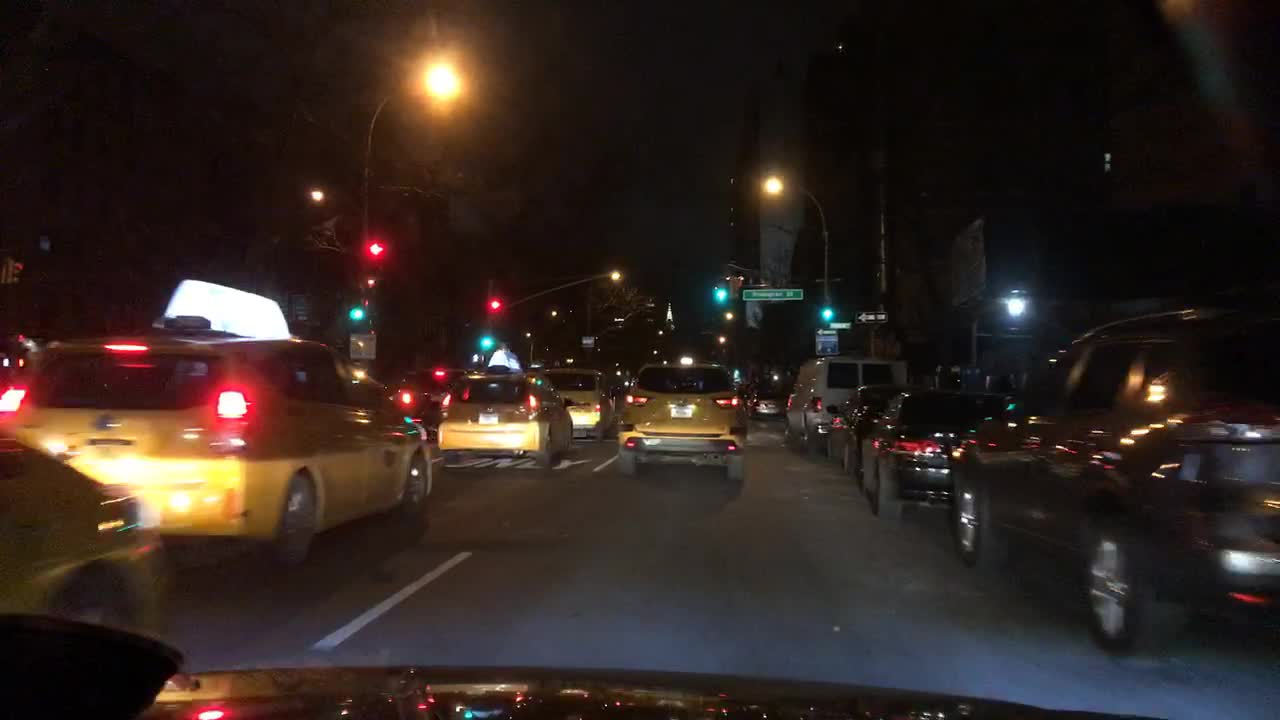car: (0, 276, 433, 570), (944, 295, 1279, 655), (0, 432, 173, 645), (859, 386, 1017, 519), (433, 346, 573, 467), (615, 358, 746, 481), (781, 356, 911, 458), (820, 384, 900, 475), (533, 363, 615, 442), (388, 366, 464, 421), (746, 385, 785, 416), (732, 380, 745, 397)
traffic light: (713, 277, 726, 306), (370, 237, 380, 262), (349, 305, 360, 326), (489, 298, 500, 317), (483, 336, 490, 352), (822, 309, 830, 323)
traffic sign: (743, 285, 806, 302), (351, 332, 377, 358), (854, 309, 888, 323), (817, 330, 837, 352), (581, 333, 595, 348), (828, 322, 850, 331)
